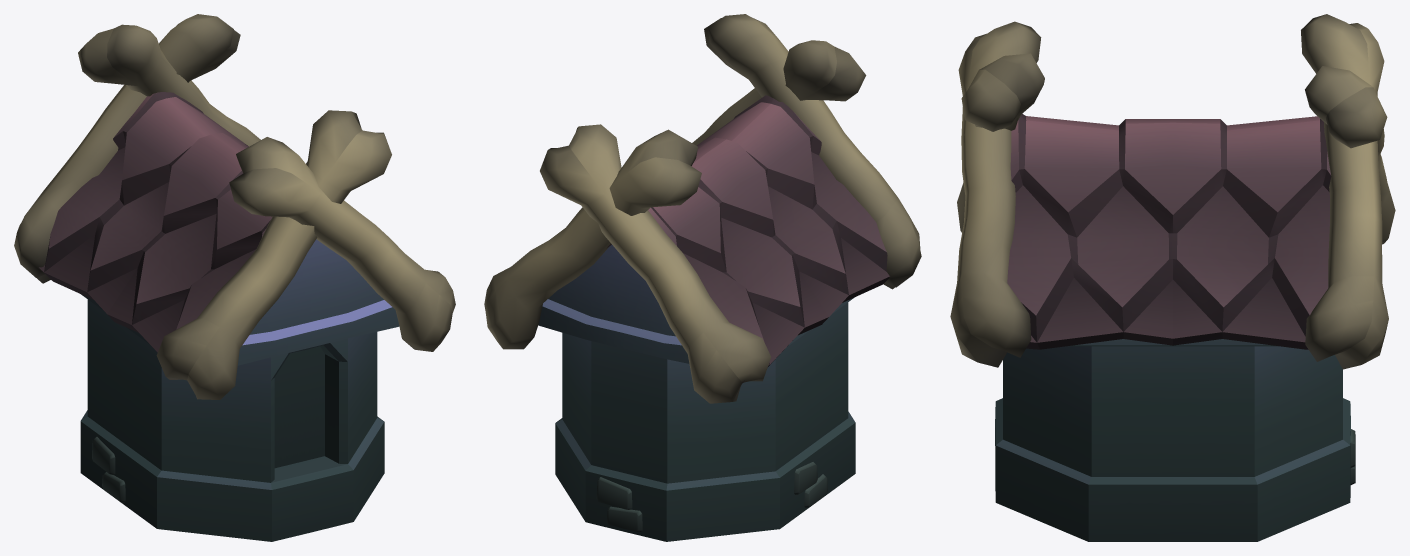
File: undead_building.fbx
The picture shows the model from 3 angles, left to right: view 1: azimuth 30°, elevation 25°; view 2: azimuth 150°, elevation 25°; view 3: azimuth 270°, elevation 25°; orthographic projection. The views are drawn at different scales.
Visible parts, largest first — view 1: undead_building; view 2: undead_building; view 3: undead_building.
Part boxes in pixels (x1=…): undead_building: x1=14, y1=14, x2=455, y2=541; undead_building: x1=484, y1=14, x2=921, y2=541; undead_building: x1=950, y1=14, x2=1395, y2=541.
Bounding box in the file's own units: 5.76 × 7.64 × 6.94.
